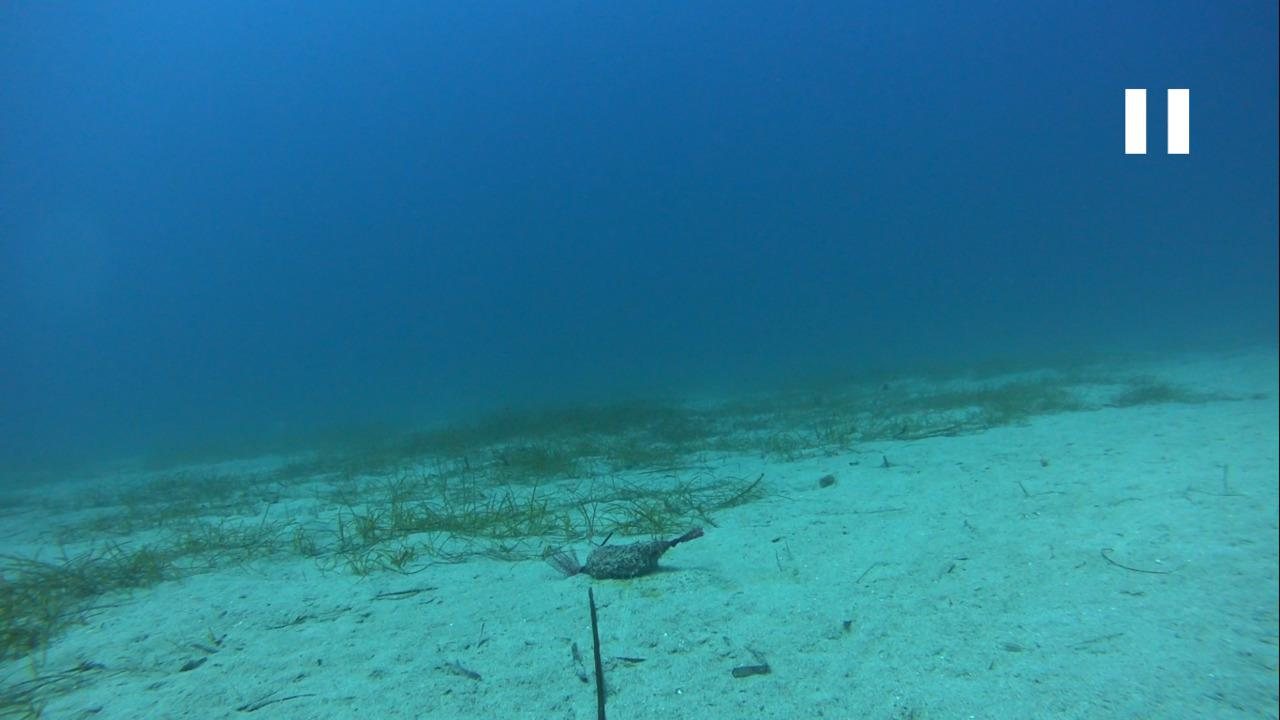dactylopterus: (872, 365, 925, 399)
